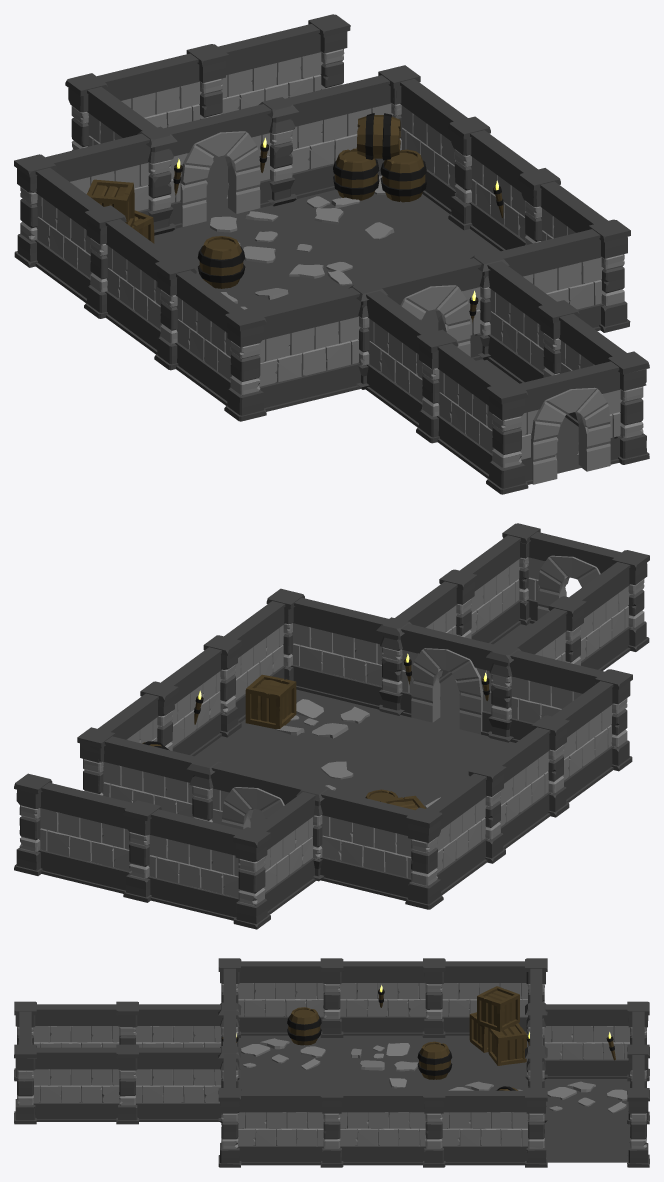
Rendered from Dungeon.fbx.
3 views of the same model, one above another, from view 1: azimuth 30°, elevation 25°; view 2: azimuth 150°, elevation 25°; view 3: azimuth 270°, elevation 25° (orthographic). The views are drawn at different scales.
Visible parts, largest first — view 1: Cube.014, Cube.006, Cube.025, Cube.012, Cube.023, Cube.015, Cube.028, Cube.022, Cube.010, Cube.011, Cube.019, Cube.017 (+18 smaller); view 2: Cube.009, Cube.028, Cube.027, Cube.015, Cube.013, Cube.026, Cube.014, Cube.012, Plane.004, Cube.011, Cube.010, Cube.019 (+16 smaller); view 3: Cube.016, Cube.017, Cube.021, Cube.010, Cube.024, Cube.018, Cube.026, Cube.012, Cube.011, Cube.022, Cube.023, Plane.001 (+20 smaller).
Boxes of the visible parts, <box> form: Cube.014: <box>256,281,387,411</box>; Cube.006: <box>137,104,272,235</box>; Cube.025: <box>517,354,649,484</box>; Cube.012: <box>175,270,266,421</box>; Cube.023: <box>437,343,528,494</box>; Cube.015: <box>495,219,630,332</box>; Cube.028: <box>218,14,350,114</box>; Cube.022: <box>365,291,458,443</box>; Cube.010: <box>105,219,196,370</box>; Cube.011: <box>35,167,126,318</box>; Cube.019: <box>285,66,420,198</box>; Cube.017: <box>448,116,537,251</box>; Cube.009: <box>320,789,443,909</box>; Cube.028: <box>14,773,132,893</box>; Cube.027: <box>123,800,242,920</box>; Cube.015: <box>266,588,388,709</box>; Cube.013: <box>376,617,497,735</box>; Cube.026: <box>233,792,316,929</box>; Cube.014: <box>486,644,604,742</box>; Cube.012: <box>552,669,632,802</box>; Plane.004: <box>332,714,498,782</box>; Cube.011: <box>426,761,506,895</box>; Cube.010: <box>489,715,569,848</box>; Cube.019: <box>77,727,198,817</box>; Cube.016: <box>237,1088,343,1167</box>; Cube.017: <box>340,1088,445,1167</box>; Cube.021: <box>116,1044,222,1124</box>; Cube.010: <box>320,958,425,1037</box>; Cube.024: <box>14,1044,119,1124</box>; Cube.018: <box>442,1088,547,1167</box>; Cube.026: <box>543,1001,649,1081</box>; Cube.012: <box>218,958,323,1037</box>; Cube.011: <box>422,958,528,1037</box>; Cube.022: <box>116,1001,222,1047</box>; Cube.023: <box>14,1001,119,1081</box>; Plane.001: <box>332,1035,433,1076</box>.
Size of the model in its own units: 1290 by 317 by 2490.
